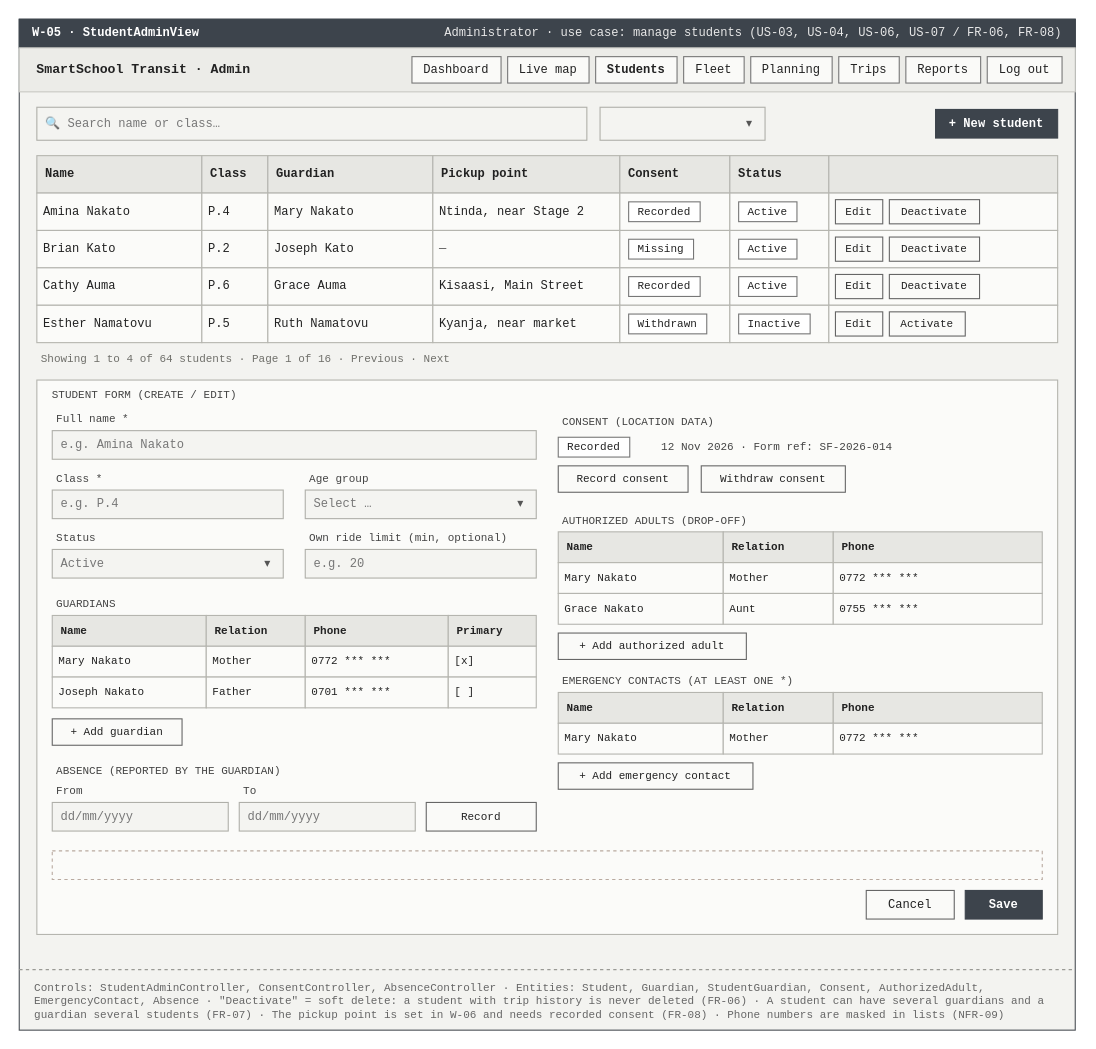
The diagram is 1096 pixels wide and 1049 high, and some of its shapes have lost their labels. Each missing label, with the box of its shape:
Actions: (828, 155, 1058, 193)
Consent: All: (599, 106, 765, 140)
⚠ At least one guardian and one emergency contact are required (error slot): (51, 850, 1042, 879)
